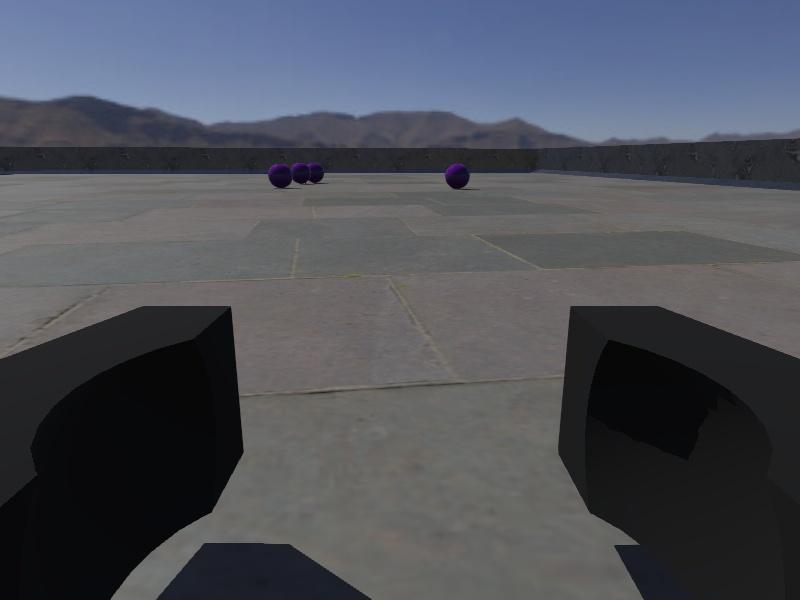violet ball: (445, 163, 470, 188), (269, 165, 293, 188), (291, 162, 311, 183)
